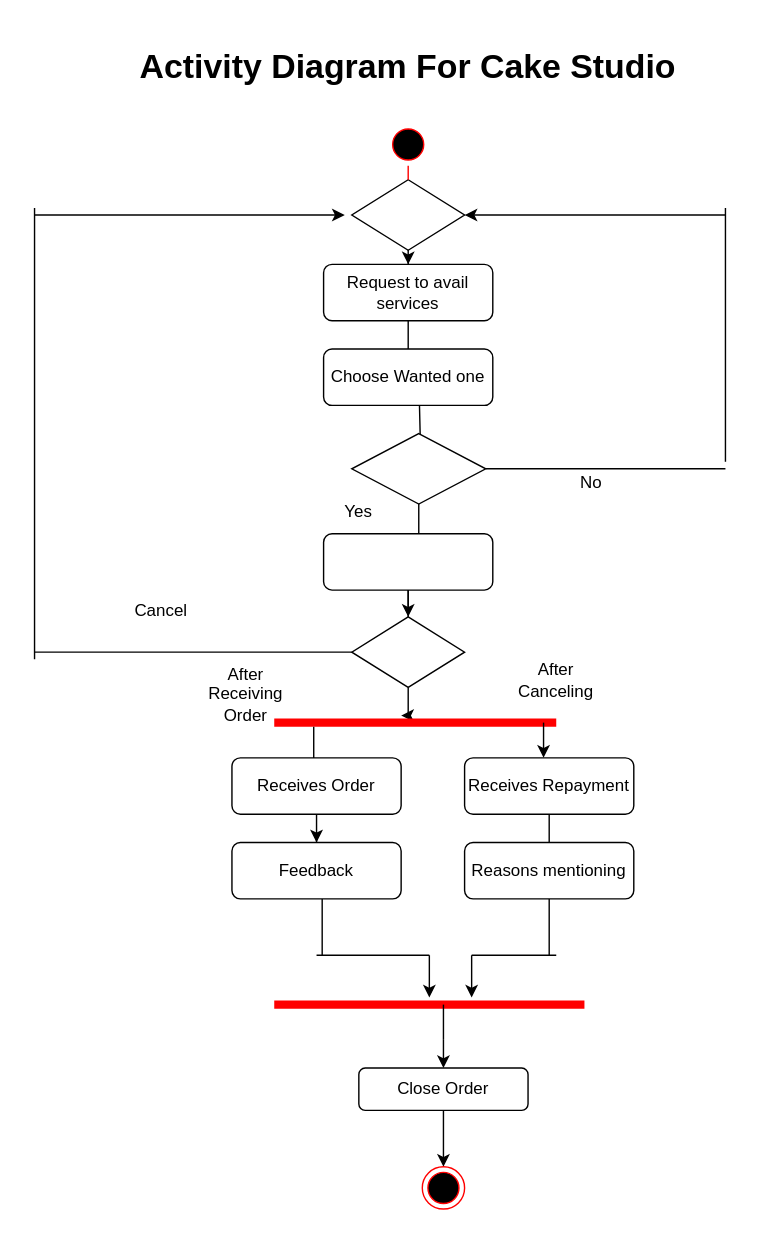
This 761x1234 diagram has some shape labels left out. Here are the shapes that lost their labels. From the top down, the centre of each, then its label:
At pixel 407 214: "Login".
At pixel 418 468: "Order Confirm".
At pixel 407 561: "Payment".
